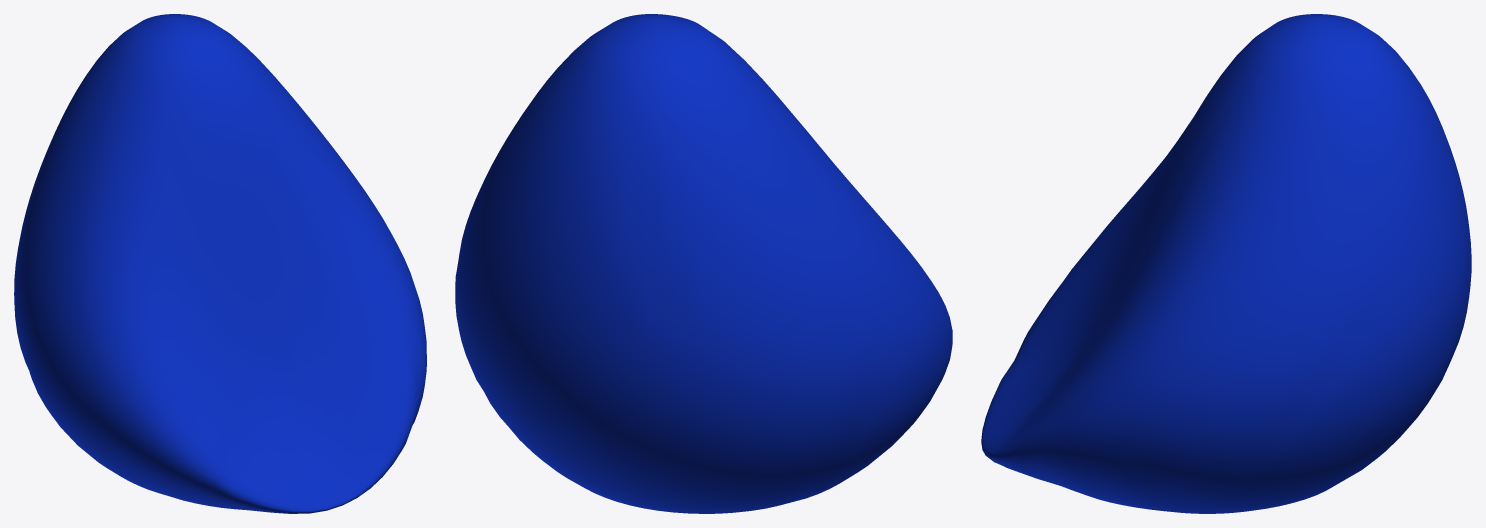
File: beanBag-1.glb
The picture shows the model from 3 angles, left to right: view 1: azimuth 30°, elevation 25°; view 2: azimuth 150°, elevation 25°; view 3: azimuth 270°, elevation 25°; orthographic projection. The views are drawn at different scales.
Visible parts, largest first — view 1: beanBag_1_continuous_cloth; view 2: beanBag_1_continuous_cloth; view 3: beanBag_1_continuous_cloth.
Boxes of the visible parts, bbox=[...] form: beanBag_1_continuous_cloth: bbox=[14, 14, 426, 513]; beanBag_1_continuous_cloth: bbox=[455, 14, 952, 513]; beanBag_1_continuous_cloth: bbox=[981, 14, 1471, 513].
Size of the model in its own units: 0.88 by 0.96 by 0.96.
